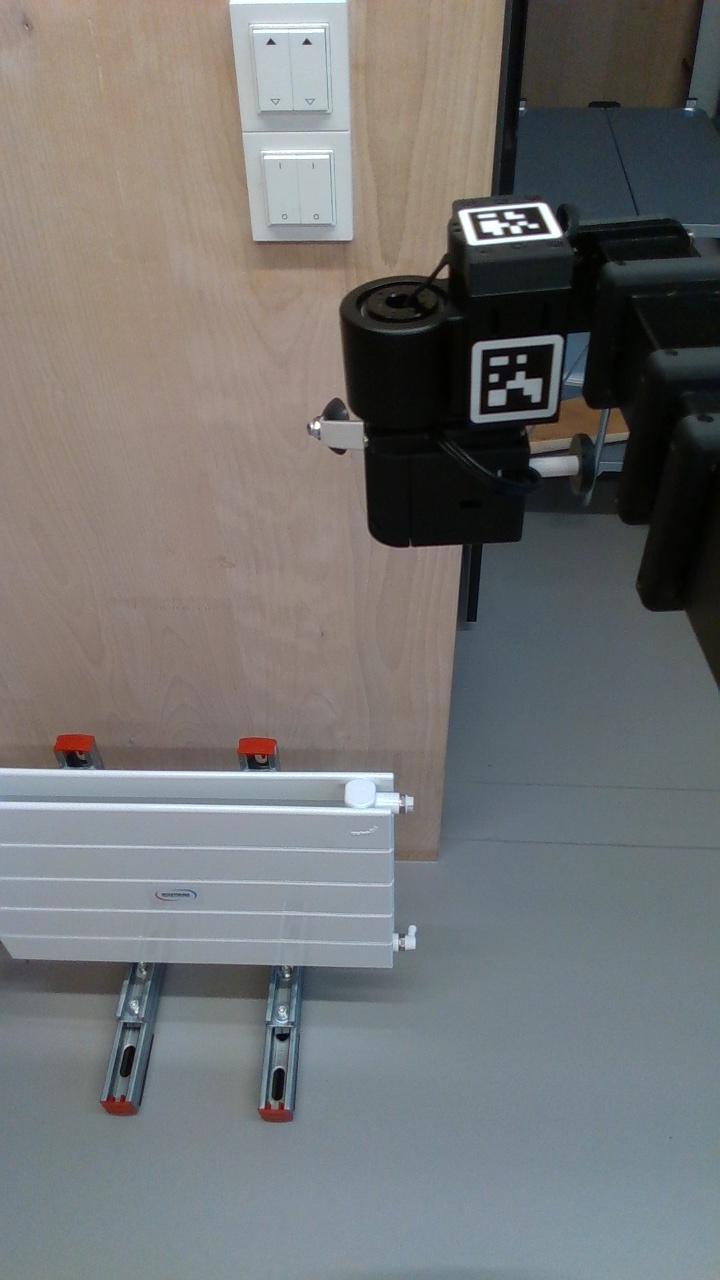Light_Switch: (240, 1, 353, 132), (247, 137, 353, 240)
Radiator: (1, 766, 412, 970)
